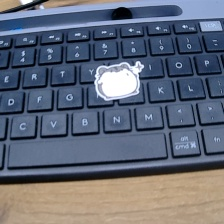mouse: (90, 54, 154, 108)
